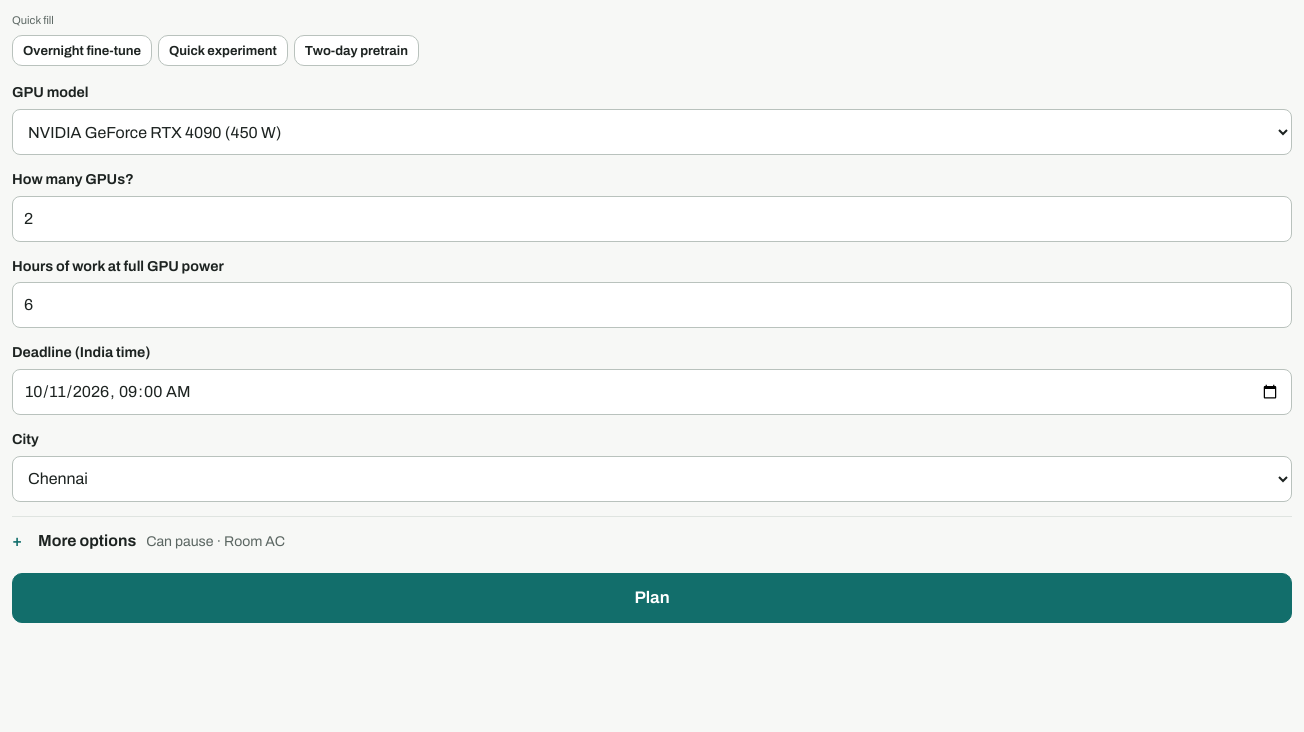
Scenario: JobForm quick fill › fills the job, keeps the city and marks the example as chosen
Select "Pune" in the dropdown labelled "City" at (652, 478), box [12,456,1292,502]
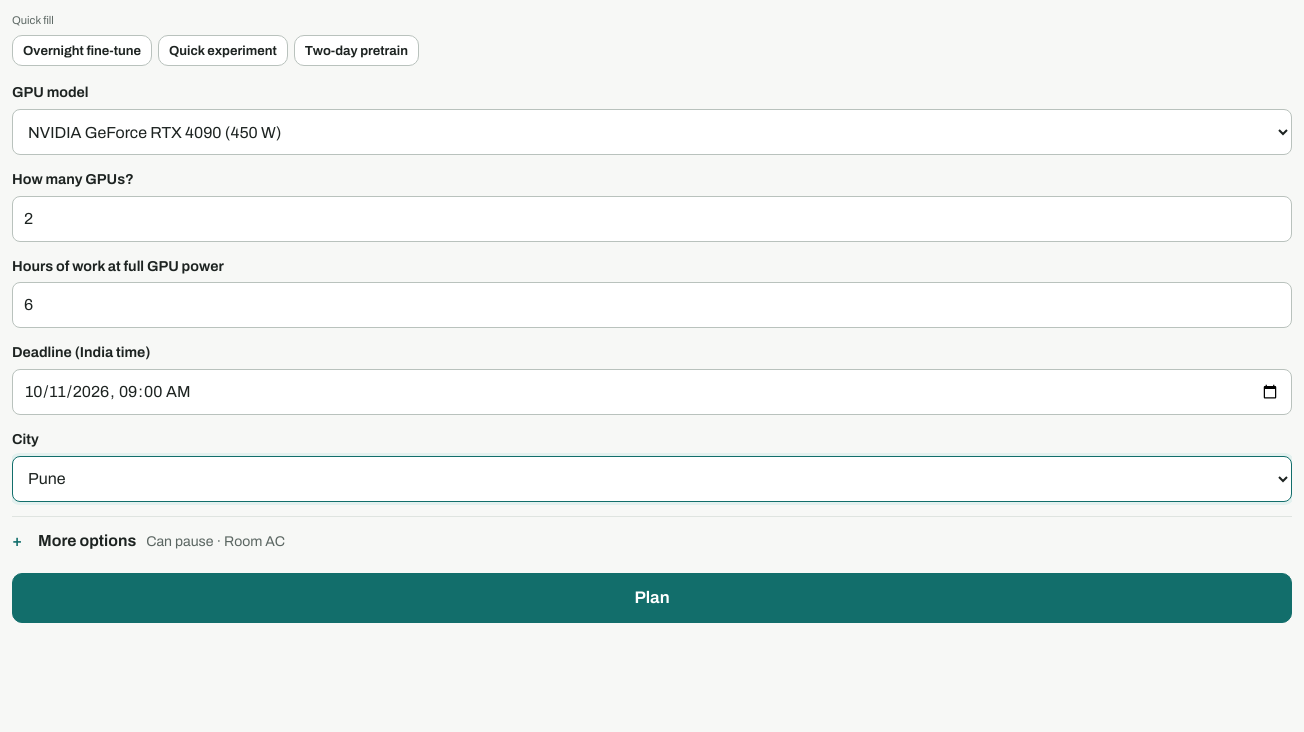
Click the button "Two-day pretrain" at (356, 51), box [294,35,419,66]
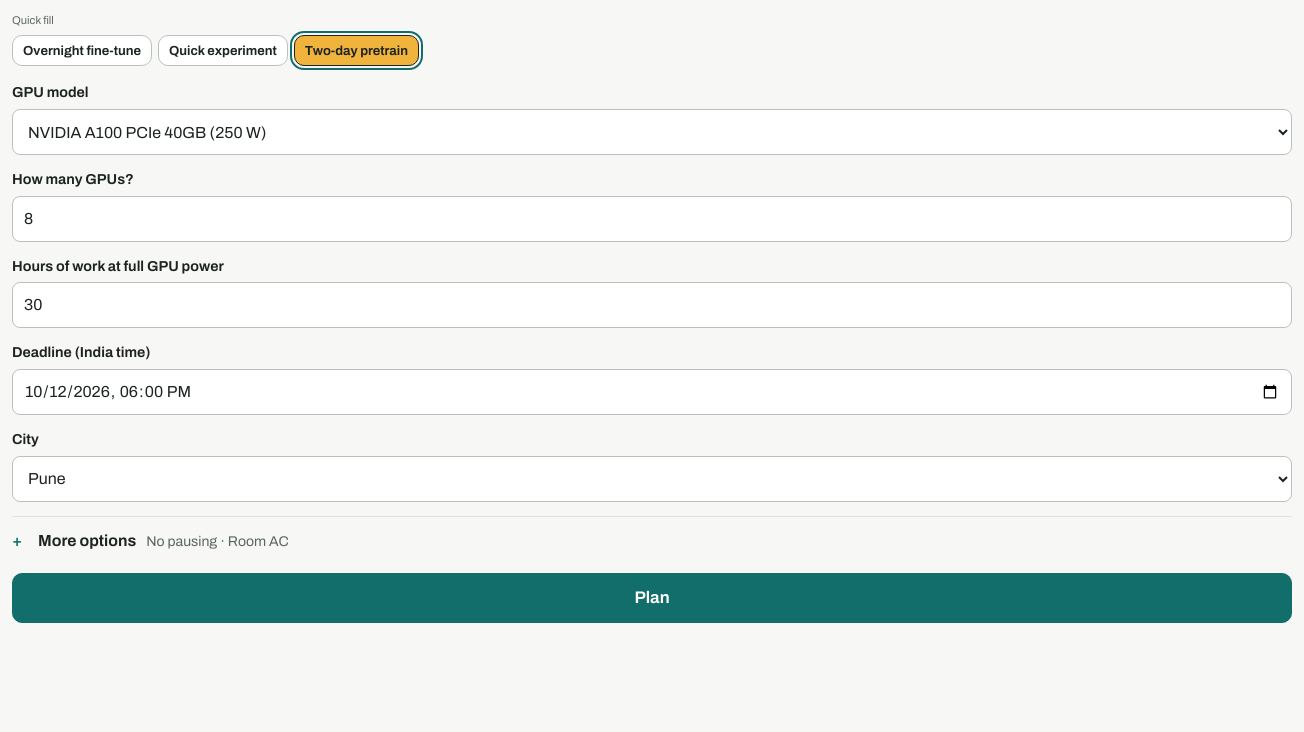
Expected: the dropdown labelled "GPU model" shows "NVIDIA A100 PCIe 40GB (250 W)", [12,109,1292,155]
Expected: the number field labelled "How many GPUs?" holds "8", [12,196,1292,242]
Expected: the number field labelled "Hours of work at full GPU power" holds "30", [12,282,1292,328]
